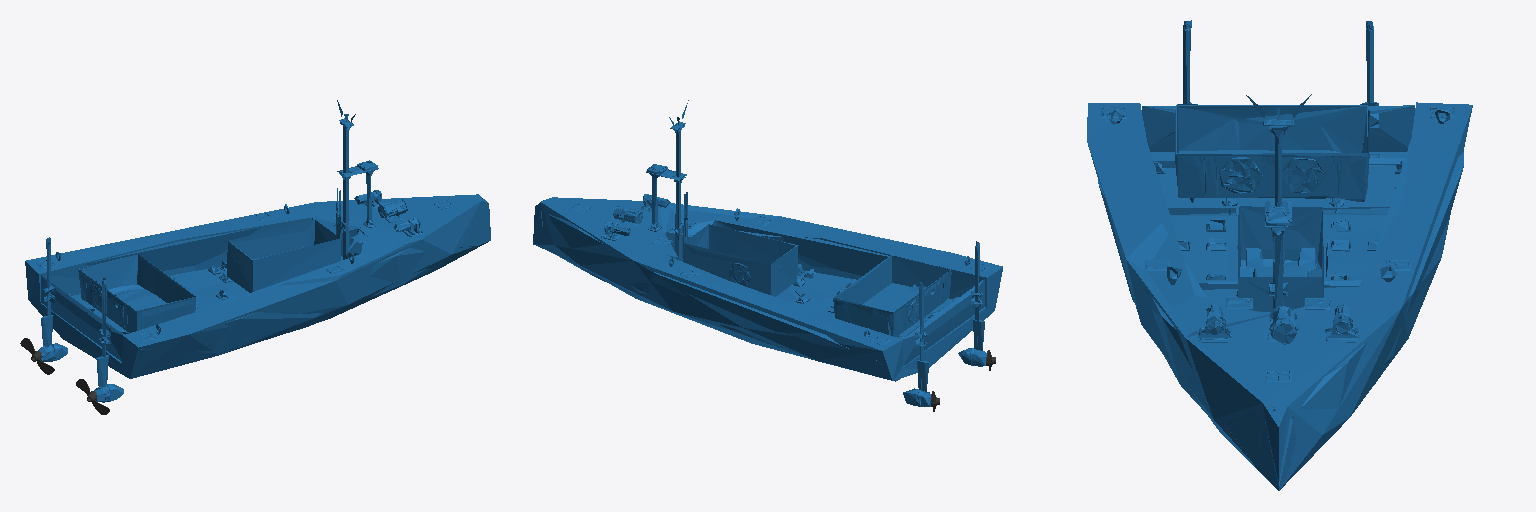
The robot description file, URDF, robot "nautilus_vessel":
<?xml version="1.0"?>
<robot name="nautilus_vessel">
  <material name="nautilus_blue">
    <color rgba="0.18 0.48 0.70 1"/>
  </material>

  <material name="propeller_dark">
    <color rgba="0.25 0.25 0.25 1"/>
  </material>

  <link name="base_link">
    <inertial>
      <origin xyz="0.1 0 -0.05" rpy="0 0 0"/>
      <mass value="259.998"/>
      <inertia
        ixx="187.0" ixy="0" ixz="0"
        iyy="88.0" iyz="0" izz="215.0"/>
    </inertial>

    <visual>
      <origin xyz="-0.404 0 -0.470" rpy="0 0 1.094045"/>
      <geometry>
        <mesh
          filename="package://asv_simulator/models/nautilus_vessel/meshes/nautilus_vessel_hull_simplified.stl"
          scale="0.001 0.001 0.001"/>
      </geometry>
      <material name="nautilus_blue"/>
    </visual>

    <collision name="port_forward_collision">
      <origin xyz="0.775 0.52 0" rpy="0 0 0"/>
      <geometry>
        <box size="1.35 0.40 0.43"/>
      </geometry>
    </collision>

    <collision name="port_aft_collision">
      <origin xyz="-0.575 0.52 0" rpy="0 0 0"/>
      <geometry>
        <box size="1.35 0.40 0.43"/>
      </geometry>
    </collision>

    <collision name="starboard_forward_collision">
      <origin xyz="0.775 -0.52 0" rpy="0 0 0"/>
      <geometry>
        <box size="1.35 0.40 0.43"/>
      </geometry>
    </collision>

    <collision name="starboard_aft_collision">
      <origin xyz="-0.575 -0.52 0" rpy="0 0 0"/>
      <geometry>
        <box size="1.35 0.40 0.43"/>
      </geometry>
    </collision>
  </link>

  <link name="propeller_left_link">
    <inertial>
      <origin xyz="0 0 0" rpy="0 0 0"/>
      <mass value="0.001"/>
      <inertia
        ixx="0.000001" ixy="0" ixz="0"
        iyy="0.000001" iyz="0" izz="0.000001"/>
    </inertial>

    <visual>
      <origin xyz="0 0 0" rpy="0 0 1.57079632679"/>
      <geometry>
        <mesh filename="package://asv_simulator/models/nautilus_vessel/meshes/nautilus_propeller_left.stl"
              scale="0.001 0.001 0.001"/>
      </geometry>
      <material name="propeller_dark"/>
    </visual>
  </link>

  <link name="propeller_right_link">
    <inertial>
      <origin xyz="0 0 0" rpy="0 0 0"/>
      <mass value="0.001"/>
      <inertia
        ixx="0.000001" ixy="0" ixz="0"
        iyy="0.000001" iyz="0" izz="0.000001"/>
    </inertial>

    <visual>
      <origin xyz="0 0 0" rpy="0 0 1.57079632679"/>
      <geometry>
        <mesh filename="package://asv_simulator/models/nautilus_vessel/meshes/nautilus_propeller_right.stl"
              scale="0.001 0.001 0.001"/>
      </geometry>
      <material name="propeller_dark"/>
    </visual>
  </link>

  <joint name="propeller_left_joint" type="revolute">
    <origin xyz="-1.530 0.345 -0.3355" rpy="0 0 0"/>
    <parent link="base_link"/>
    <child link="propeller_left_link"/>
    <axis xyz="1 0 0"/>
    <limit lower="-1e16" upper="1e16" effort="1000" velocity="1000"/>
  </joint>

  <joint name="propeller_right_joint" type="revolute">
    <origin xyz="-1.530 -0.345 -0.3355" rpy="0 0 0"/>
    <parent link="base_link"/>
    <child link="propeller_right_link"/>
    <axis xyz="1 0 0"/>
    <limit lower="-1e16" upper="1e16" effort="1000" velocity="1000"/>
  </joint>
</robot>

--- Render facts (derived) ---
3 views of the same robot in one strip: view 1: azimuth 30°, elevation 25°; view 2: azimuth 150°, elevation 25°; view 3: azimuth 270°, elevation 25° (orthographic).
Robot: nautilus_vessel — 3 links, 2 joints (2 revolute); root link base_link; default pose: all joints at 0.
Links seen in each view (by area): view 1: base_link; view 2: base_link; view 3: base_link.
Boxes of the visible links, box(x1,y1,x2,y2) form: base_link: box(25, 100, 490, 402); base_link: box(533, 100, 1002, 406); base_link: box(1087, 20, 1472, 490).
Size in the robot's own frame: 3.12 by 1.46 by 1.5 metres.
Meshes: 3 distinct files referenced, 3 mesh visuals loaded (3 binary STL).
